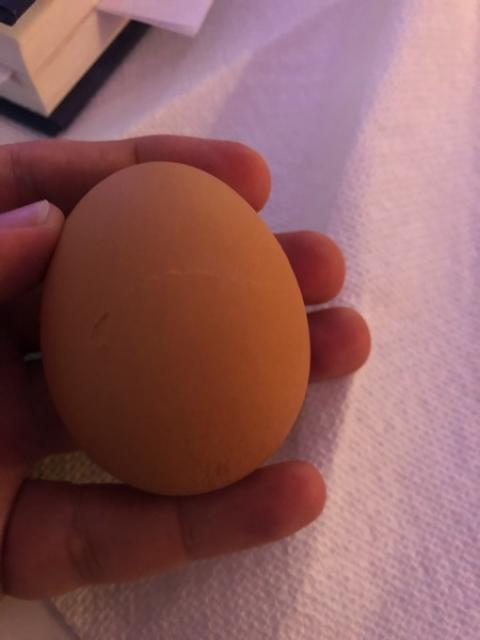Roto: (37, 159, 311, 497)
